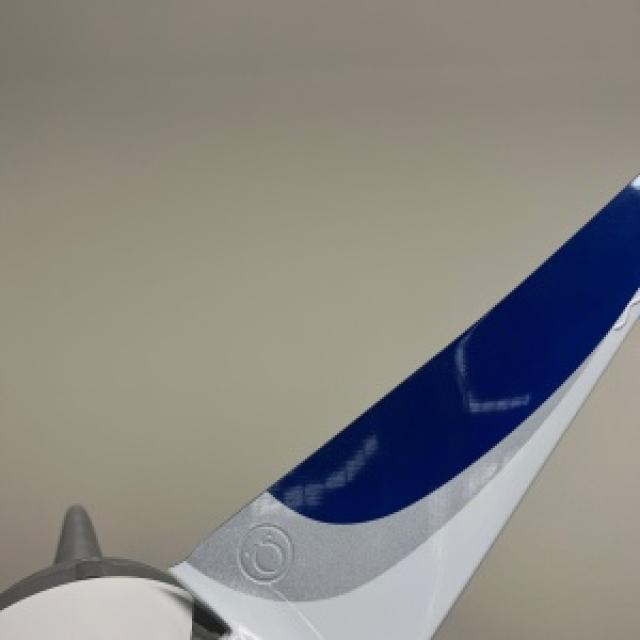healthy: (0, 173, 638, 638), (435, 339, 638, 638)
